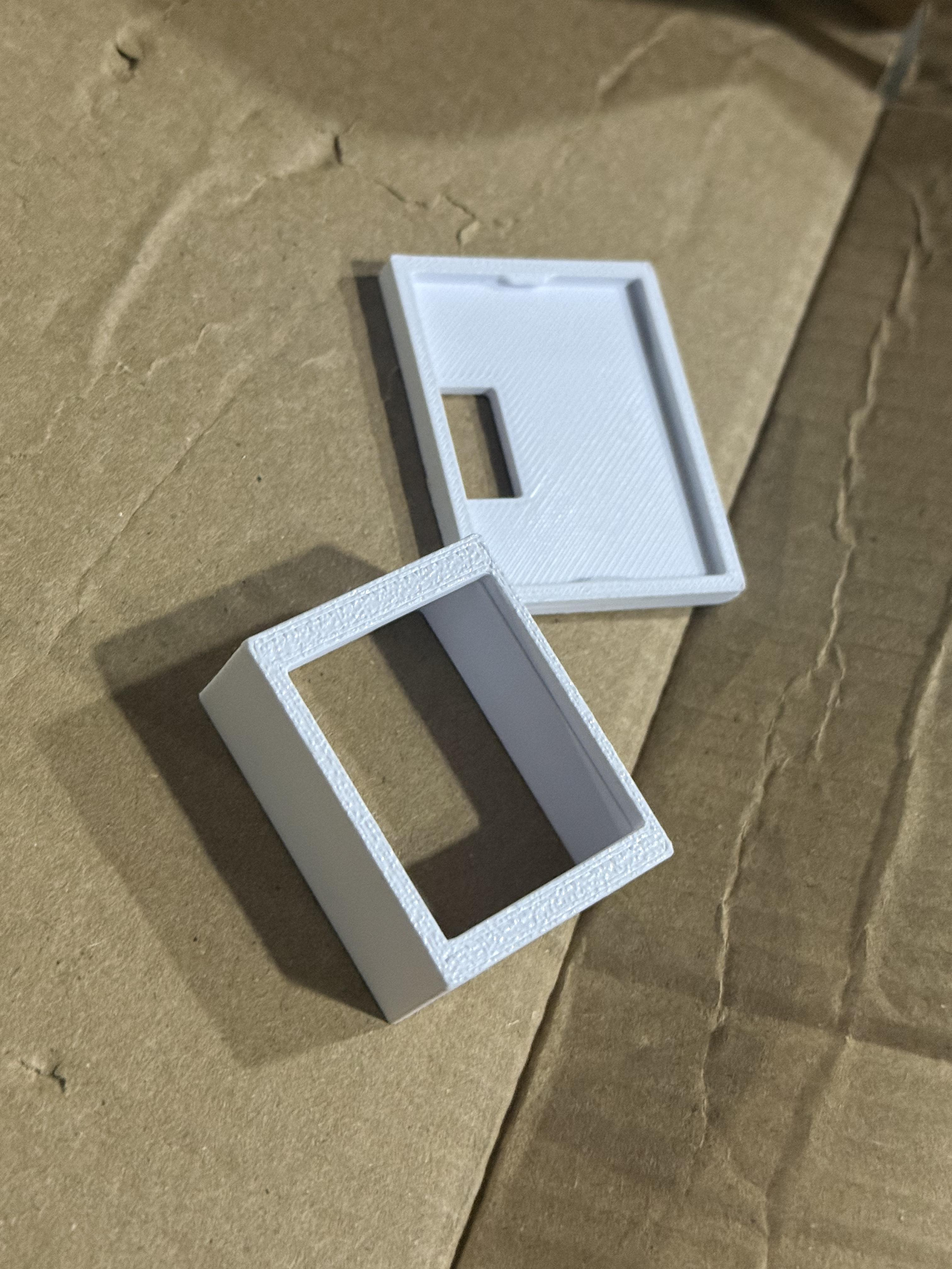enclosure: (198, 533, 674, 1025), (377, 254, 747, 615)
